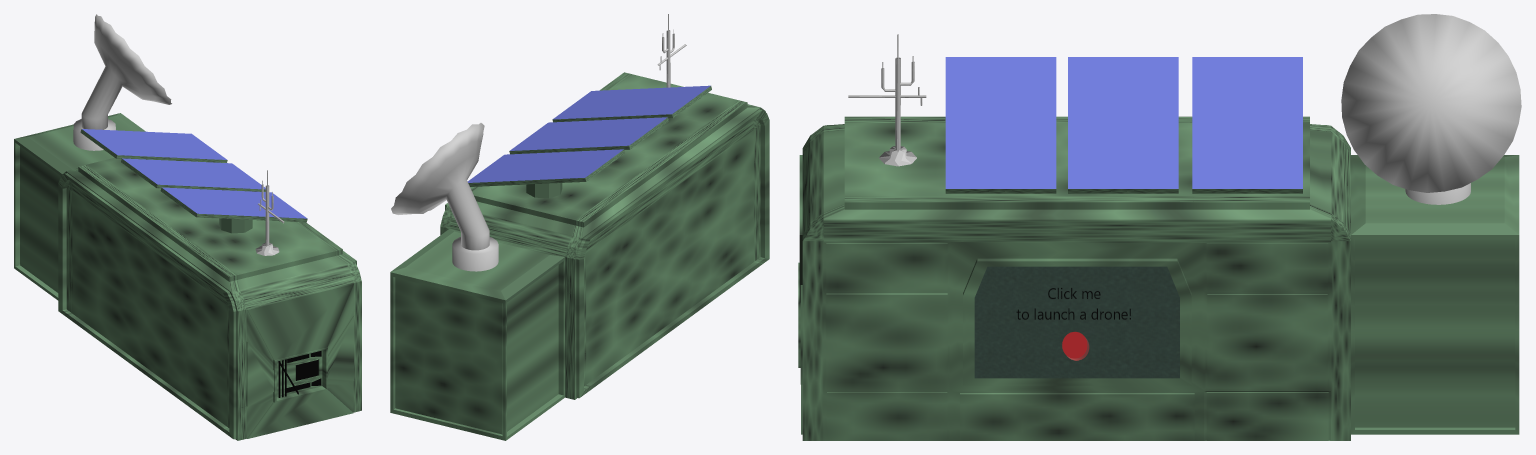
Rendered from DroneHut-textured.gltf.
3 renders of one model, left to right at view 1: azimuth 30°, elevation 25°; view 2: azimuth 150°, elevation 25°; view 3: azimuth 270°, elevation 25°, orthographic. The views are drawn at different scales.
Visible parts, largest first — view 1: Cube, Cylinder.001, Cube.005, Cube.003, Cube.004, Cube.002; view 2: Cube, Cylinder.001, Cube.003, Cube.004, Cube.005, Cube.002; view 3: Cube, Cylinder.001, Cube.001, Cube.005, Cube.004, Cube.003, Cube.002.
Part boxes in pixels (box(x1,y1,x2,y2)): Cube: box(14, 113, 361, 440); Cylinder.001: box(73, 14, 171, 150); Cube.005: box(160, 187, 307, 233); Cube.003: box(80, 129, 227, 162); Cube.004: box(121, 158, 265, 191); Cube.002: box(255, 170, 284, 255); Cube: box(390, 72, 769, 440); Cylinder.001: box(391, 123, 498, 271); Cube.003: box(467, 149, 624, 198); Cube.004: box(509, 117, 668, 154); Cube.005: box(552, 85, 711, 122); Cube.002: box(657, 14, 686, 87); Cube: box(798, 116, 1519, 440); Cylinder.001: box(1341, 14, 1521, 204); Cube.001: box(974, 266, 1179, 378); Cube.005: box(945, 57, 1056, 193); Cube.004: box(1068, 57, 1178, 193); Cube.003: box(1192, 57, 1302, 193); Cube.002: box(848, 34, 926, 166).
Bounding box in the file's own units: 4.23 × 7.74 × 13.08.
Materials: 5 (2 with a texture image).
